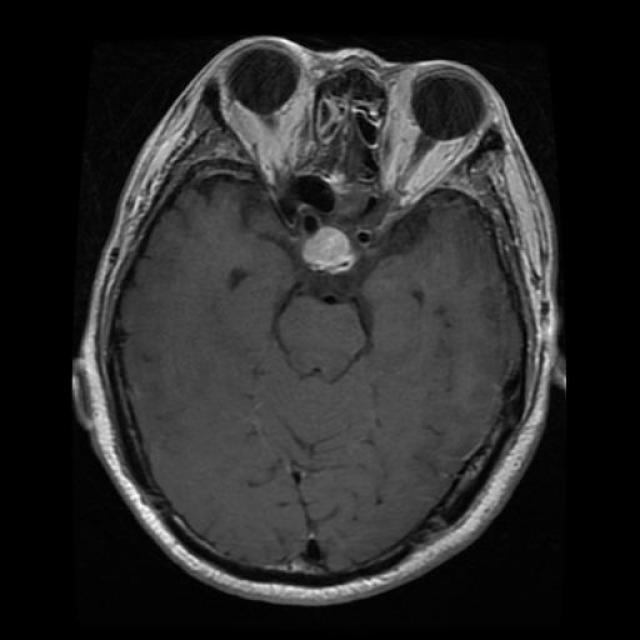pituitary: (296, 221, 362, 281)
